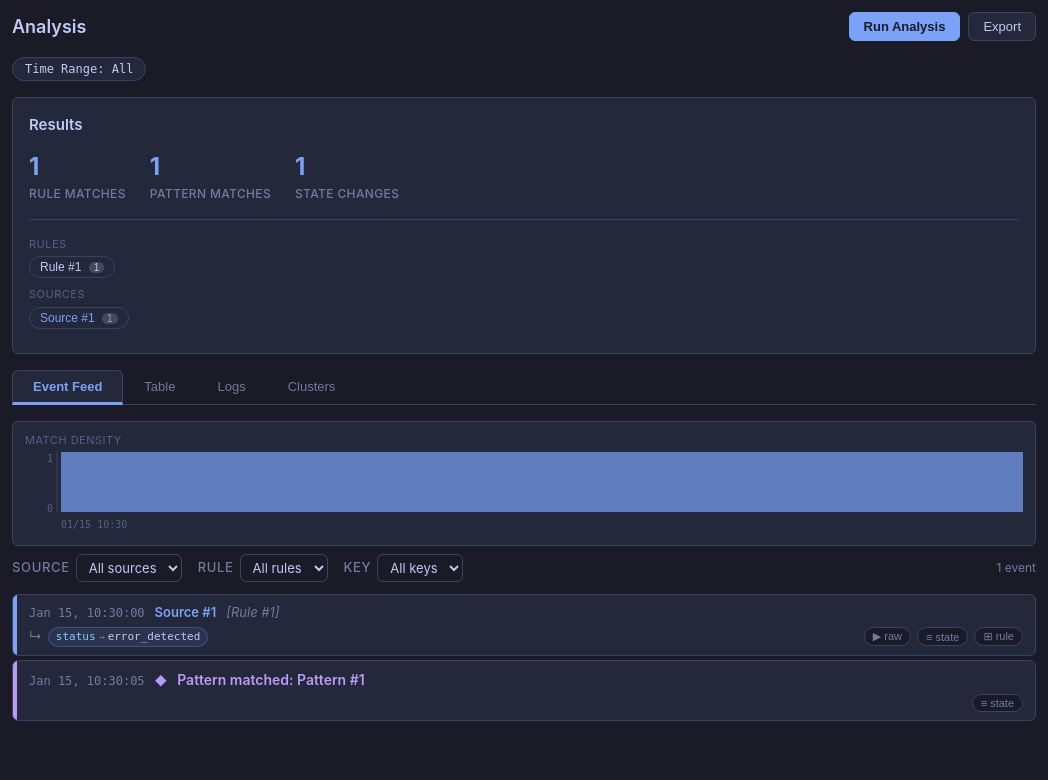
Test: AnalysisView › button shows "Running..." while analysis is in progress
Click the button "Run Analysis" at (904, 26), box [848,12,960,41]
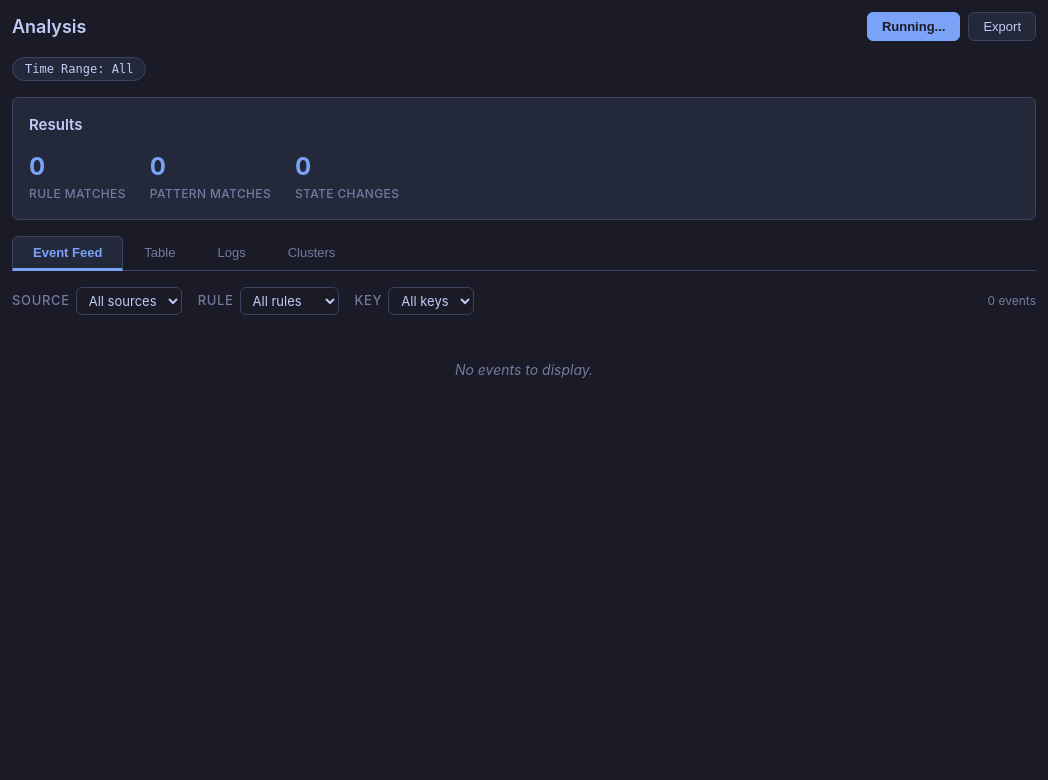
Result: the button "Running..." is shown at [867,12,960,41]
